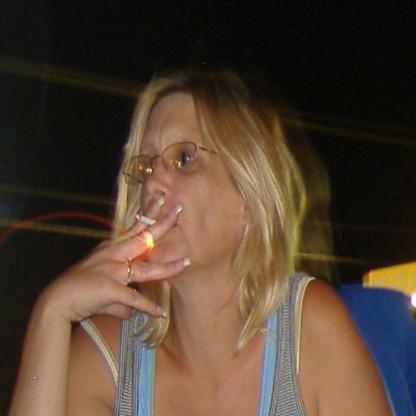smoking: (136, 214, 163, 225)
